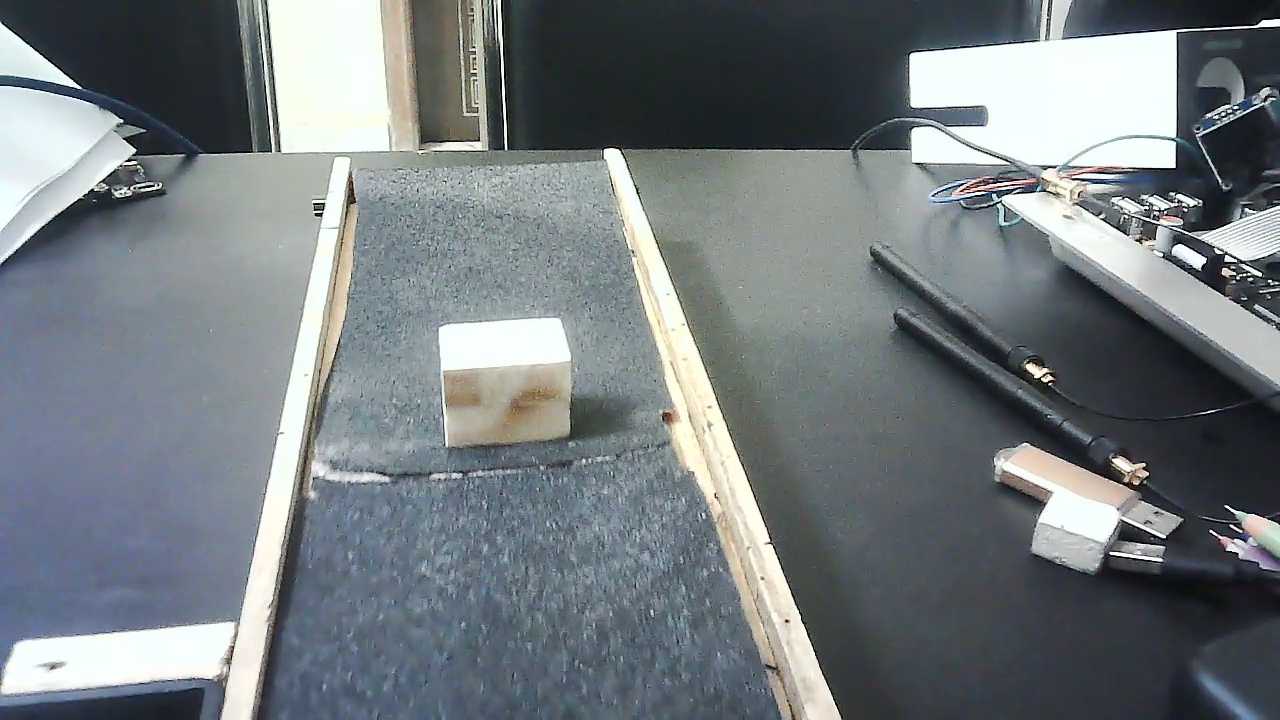Medium: (438, 316, 573, 451)
